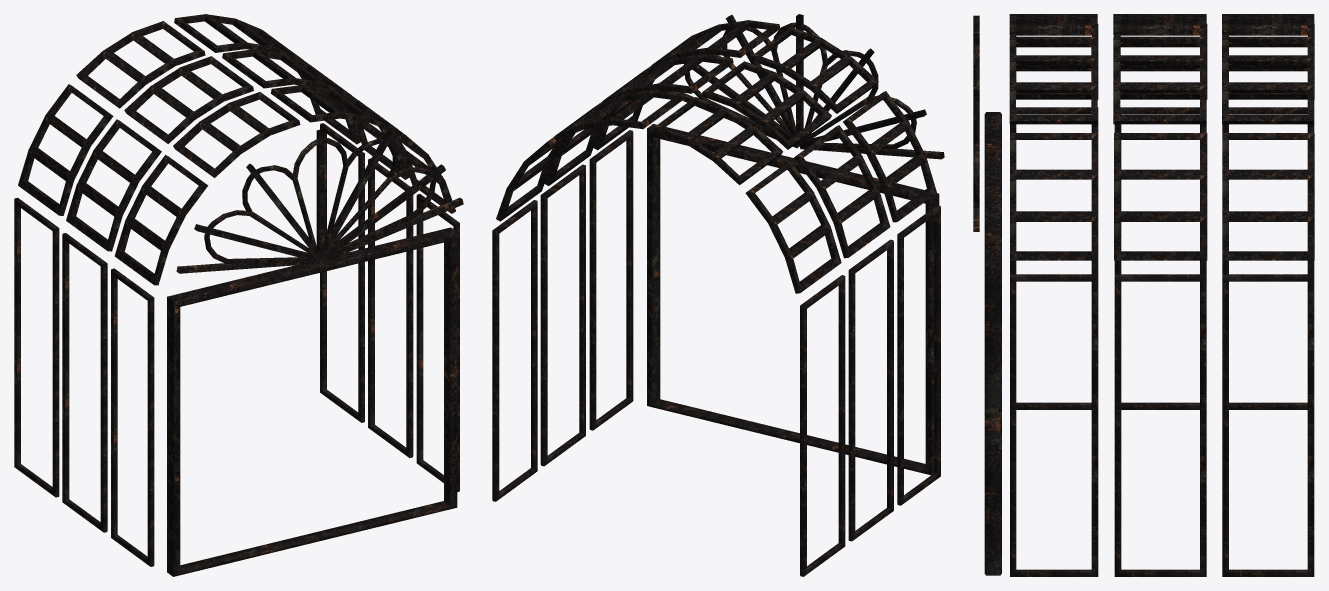
Rendered from Greenhouse_Door03.FBX.
3 renders of one model, left to right at view 1: azimuth 30°, elevation 25°; view 2: azimuth 150°, elevation 25°; view 3: azimuth 270°, elevation 25°, orthographic. The views are drawn at different scales.
Parts seen in each view (by area): view 1: Greenhouse_Door03; view 2: Greenhouse_Door03; view 3: Greenhouse_Door03.
Part boxes in pixels (box(x1,y1,x2,y2)): Greenhouse_Door03: box(14, 14, 463, 576); Greenhouse_Door03: box(492, 14, 944, 576); Greenhouse_Door03: box(973, 14, 1314, 576).
Bounding box in the file's own units: 1873 × 2395 × 1594.
